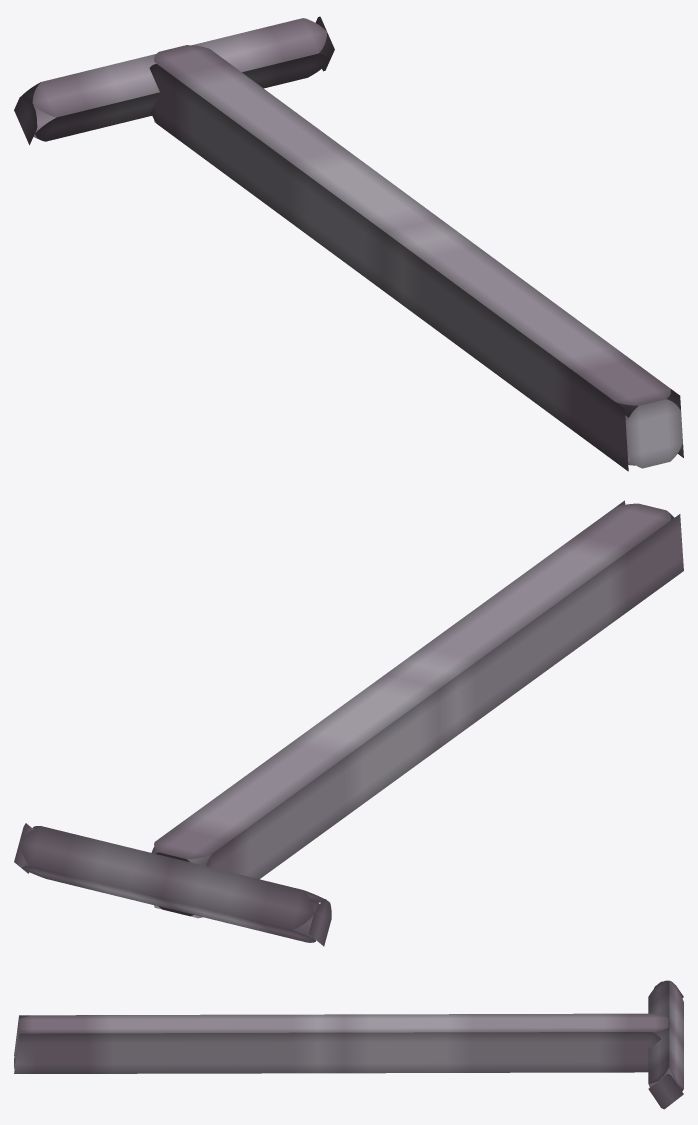
File: hxd3d_panto_large_arm.obj
3 renders of one model, top to bottom at view 1: azimuth 30°, elevation 25°; view 2: azimuth 150°, elevation 25°; view 3: azimuth 270°, elevation 25°, orthographic. The views are drawn at different scales.
Visible parts, largest first — view 1: second_selection_selection; view 2: second_selection_selection; view 3: second_selection_selection.
Part boxes in pixels (<box>): second_selection_selection: <box>14,16,683,471</box>; second_selection_selection: <box>14,500,683,946</box>; second_selection_selection: <box>14,980,683,1109</box>.
Bounding box in the file's own units: 0.5625 × 0.1142 × 1.64.
